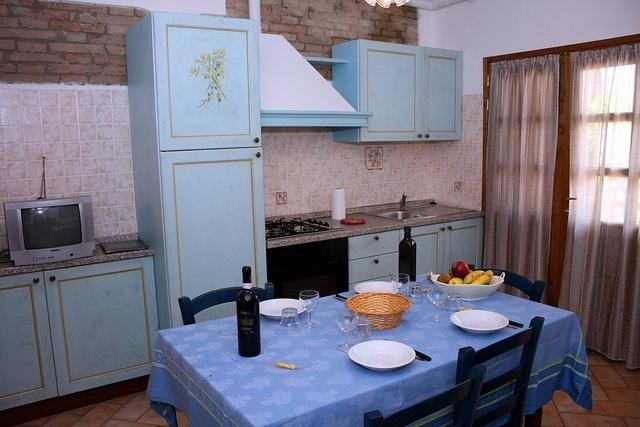Lemari: (152, 10, 269, 328), (358, 38, 462, 144)
